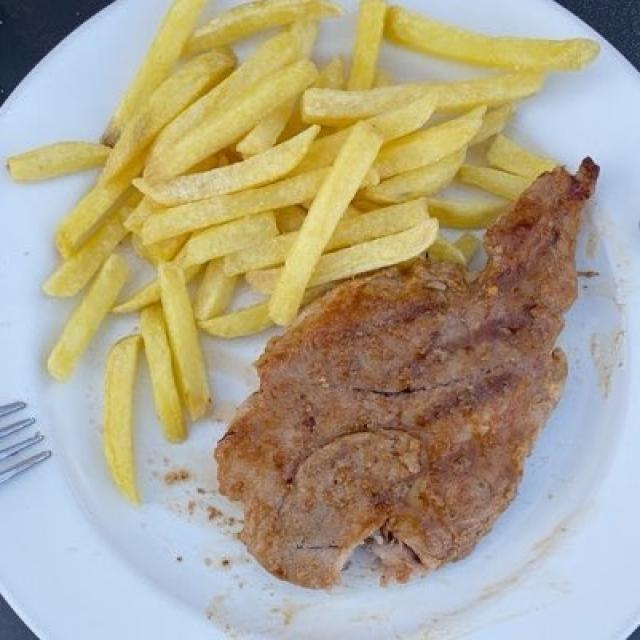chips-french-fries: (33, 18, 583, 479)
pork: (226, 136, 609, 593)
